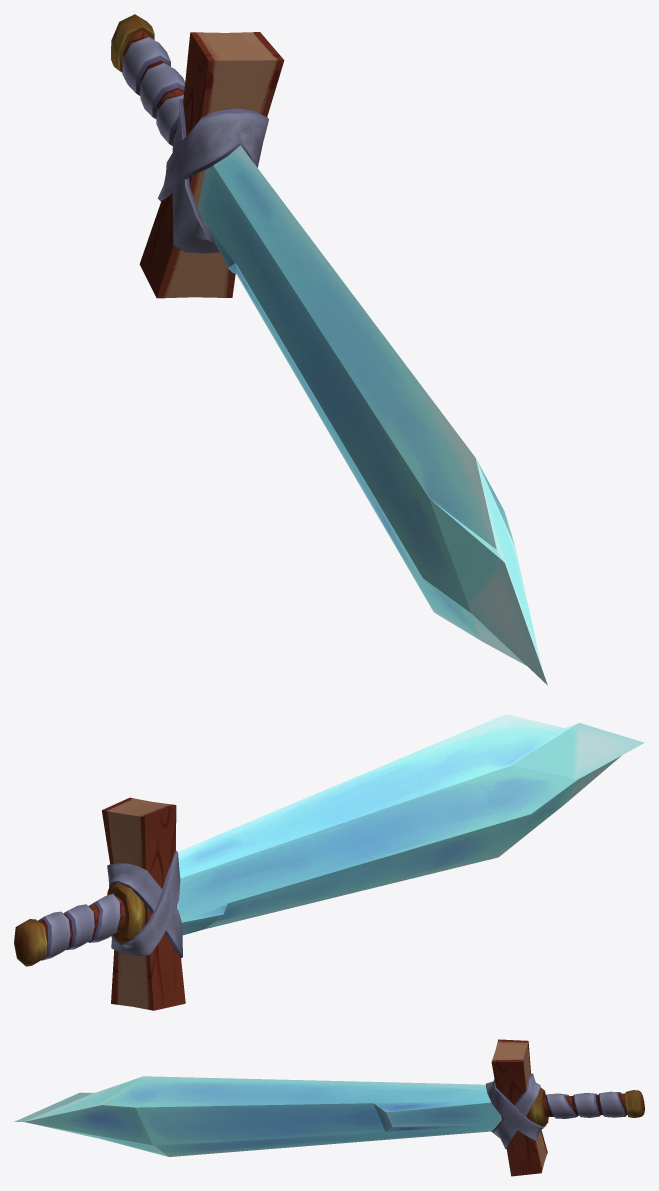
File: MC_Sword.FBX
3 renders of one model, top to bottom at view 1: azimuth 30°, elevation 25°; view 2: azimuth 150°, elevation 25°; view 3: azimuth 270°, elevation 25°, orthographic. The views are drawn at different scales.
Parts seen in each view (by area): view 1: sword; view 2: sword; view 3: sword.
Part boxes in pixels (x1,y1,x2,y2): sword: (111,14,547,685); sword: (14,714,644,1010); sword: (14,1039,644,1176).
Size of the model in its own units: 0.1317 by 0.163 by 0.6453.
Materials: 1 (1 with a texture image).
